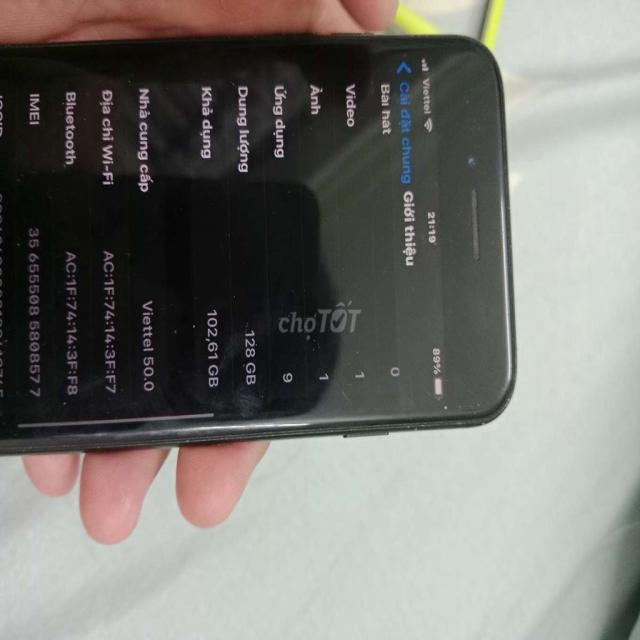scratch: (55, 425, 317, 442), (464, 74, 487, 138), (438, 399, 498, 420)
